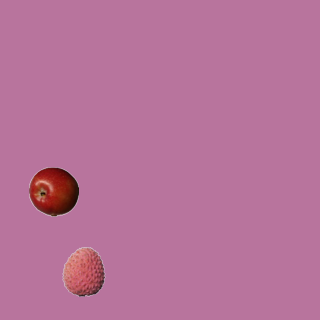Apple Braeburn: (28, 166, 78, 216)
Lychee: (58, 246, 108, 296)
